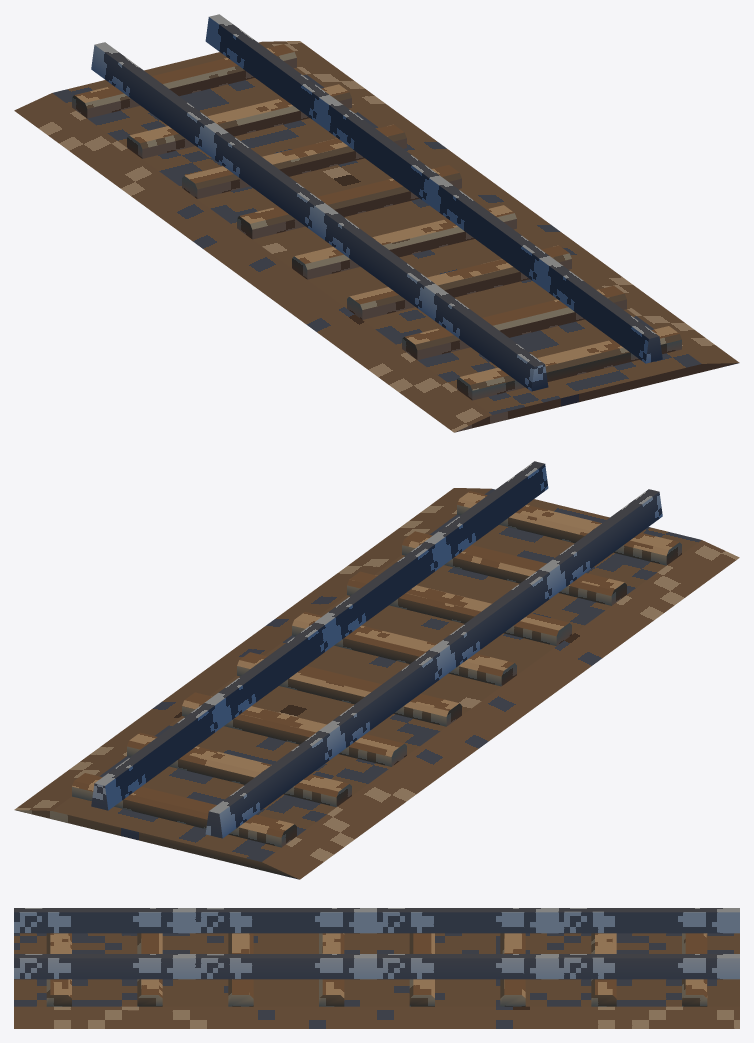
Rendered from wmine.track.glb.
3 renders of one model, top to bottom at view 1: azimuth 30°, elevation 25°; view 2: azimuth 150°, elevation 25°; view 3: azimuth 270°, elevation 25°, orthographic. The views are drawn at different scales.
Visible parts, largest first — view 1: kit_ballast, kit_rails, kit_ties; view 2: kit_ballast, kit_rails, kit_ties; view 3: kit_ballast, kit_rails, kit_ties.
Boxes of the visible parts, x1,y1,x2,y2 form: kit_ballast: (14, 41, 739, 432); kit_rails: (91, 14, 662, 391); kit_ties: (72, 44, 681, 400); kit_ballast: (14, 488, 739, 879); kit_rails: (91, 461, 662, 838); kit_ties: (72, 491, 681, 847); kit_ballast: (14, 933, 739, 1028); kit_rails: (14, 908, 739, 979); kit_ties: (46, 933, 707, 1006).
Size of the model in its own units: 1.5 by 0.232 by 4.
Materials: 3 (3 with a texture image).
